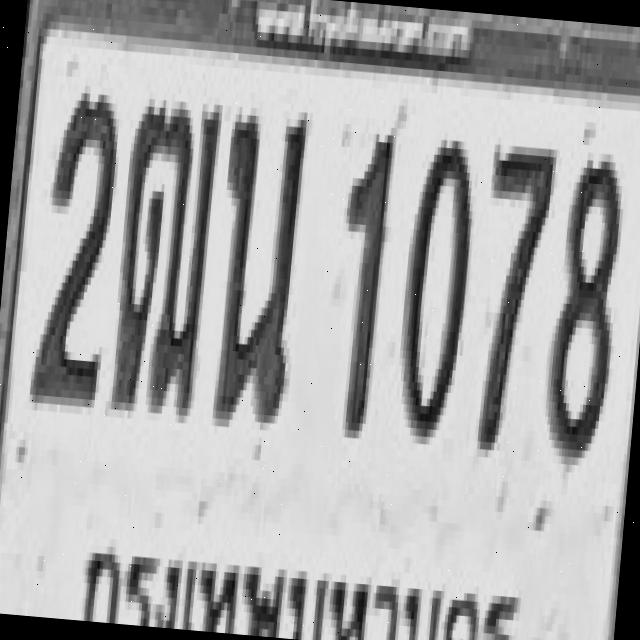0: (391, 130, 480, 439)
1: (326, 124, 396, 439)
2: (28, 83, 122, 407)
27ThorPhuThao: (106, 93, 222, 420)
34NorNu: (206, 102, 310, 428)
7: (467, 136, 556, 453)
8: (540, 147, 626, 463)
